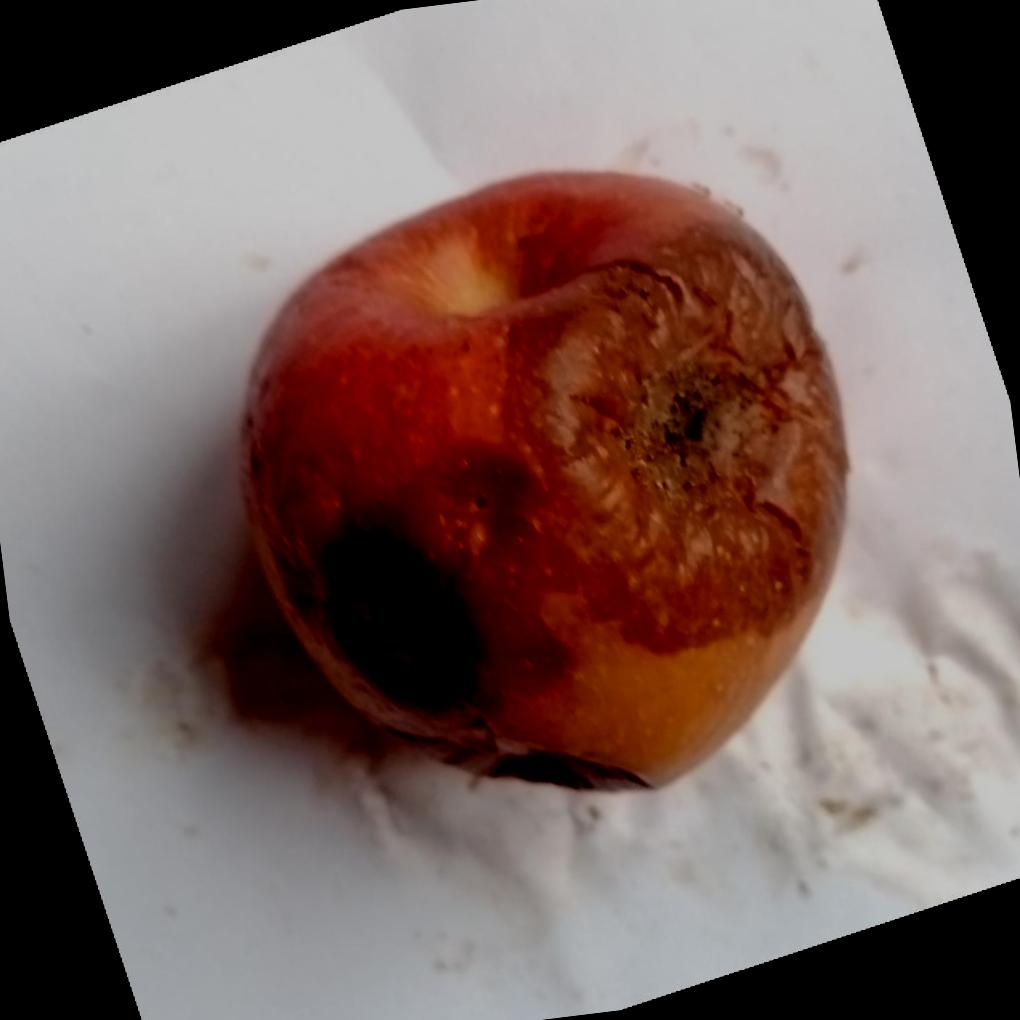FreshOrange: (235, 172, 852, 794)
